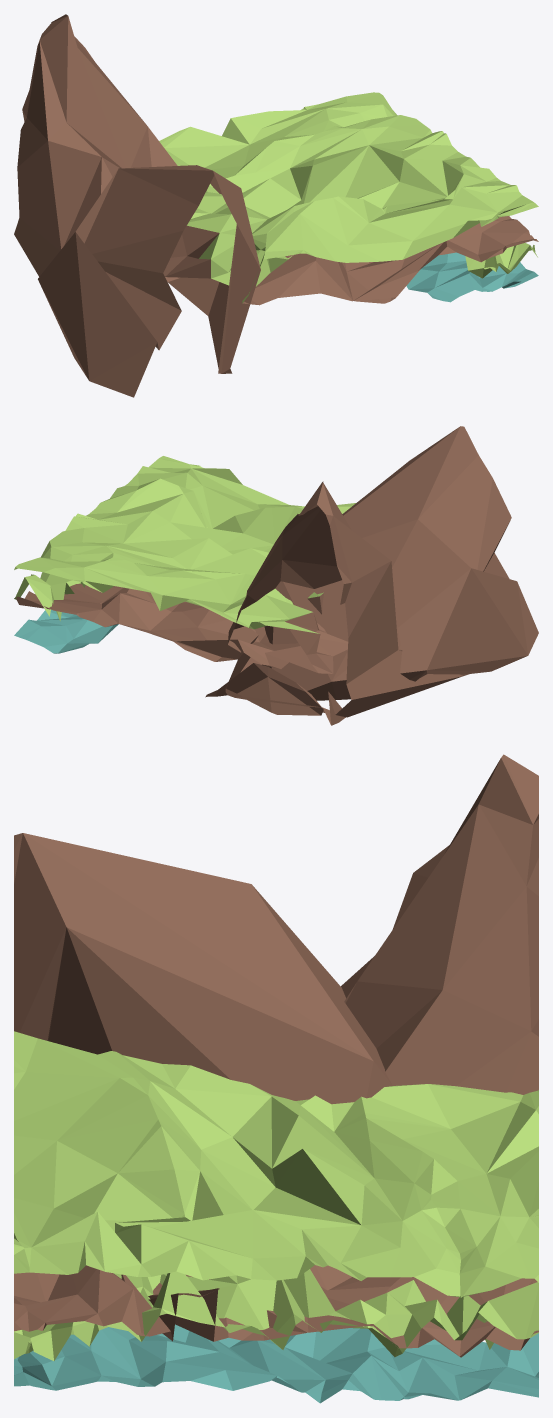
File: RG_Terrain-Mesh-04.fbx
3 renders of one model, top to bottom at view 1: azimuth 30°, elevation 25°; view 2: azimuth 150°, elevation 25°; view 3: azimuth 270°, elevation 25°, orthographic. The views are drawn at different scales.
Visible parts, largest first — view 1: RG_Terrain-Mesh-04; view 2: RG_Terrain-Mesh-04; view 3: RG_Terrain-Mesh-04.
Boxes of the visible parts, x1,y1,x2,y2 form: RG_Terrain-Mesh-04: (14,14,538,397); RG_Terrain-Mesh-04: (14,426,538,725); RG_Terrain-Mesh-04: (14,754,538,1403).
Size of the model in its own units: 157 by 90.34 by 104.
